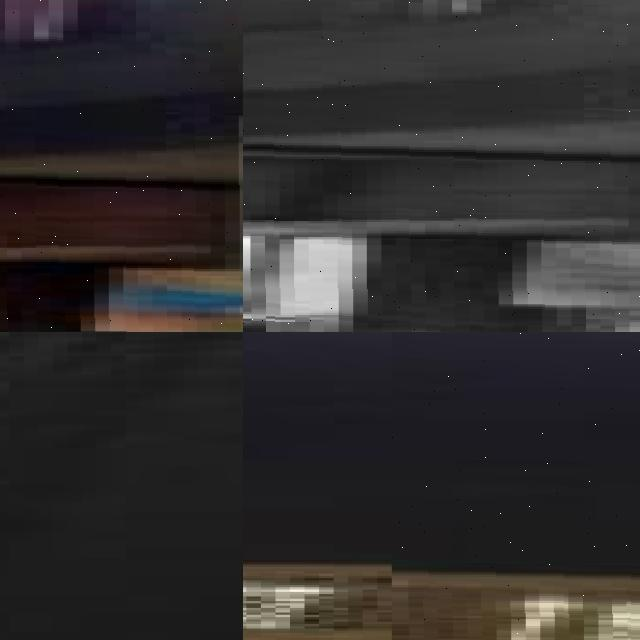street light: (243, 0, 640, 332), (0, 0, 243, 332), (392, 332, 640, 640)
